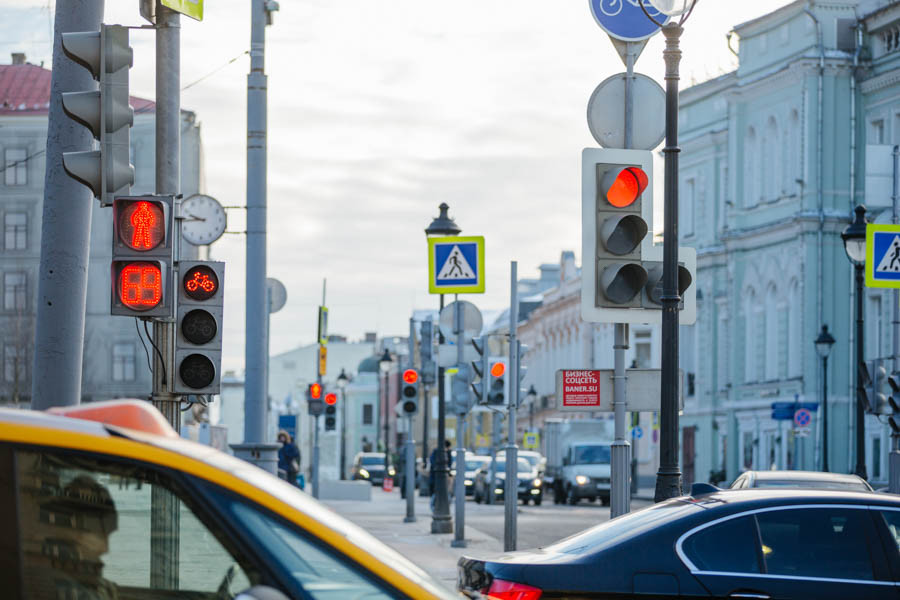tl: (583, 147, 702, 320), (53, 23, 142, 200), (107, 195, 176, 316), (171, 260, 221, 394), (399, 367, 421, 417), (485, 360, 507, 407), (323, 388, 338, 430)
